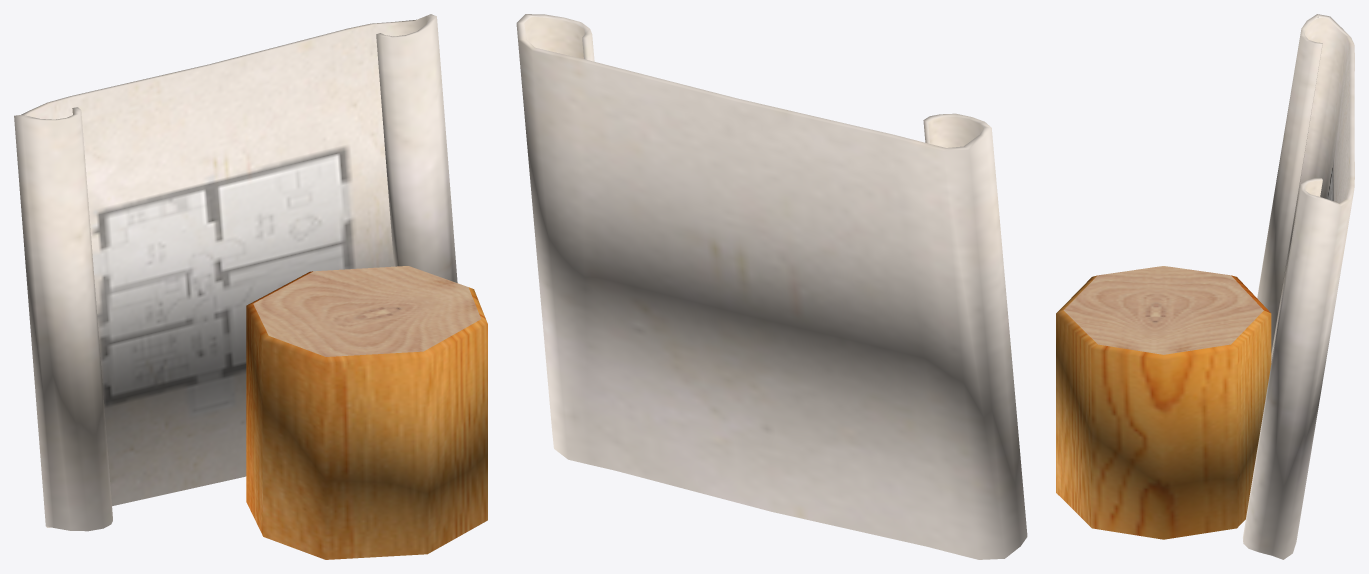
File: shop_3d_041.fbx
3 renders of one model, left to right at view 1: azimuth 30°, elevation 25°; view 2: azimuth 150°, elevation 25°; view 3: azimuth 270°, elevation 25°, orthographic. The views are drawn at different scales.
Parts seen in each view (by area): view 1: BezierCurve; view 2: BezierCurve; view 3: BezierCurve.
Boxes of the visible parts, x1,y1,x2,y2 form: BezierCurve: (14, 14, 487, 559); BezierCurve: (516, 14, 1027, 559); BezierCurve: (1056, 14, 1354, 559).
Bounding box in the file's own units: 287 × 264 × 195.
